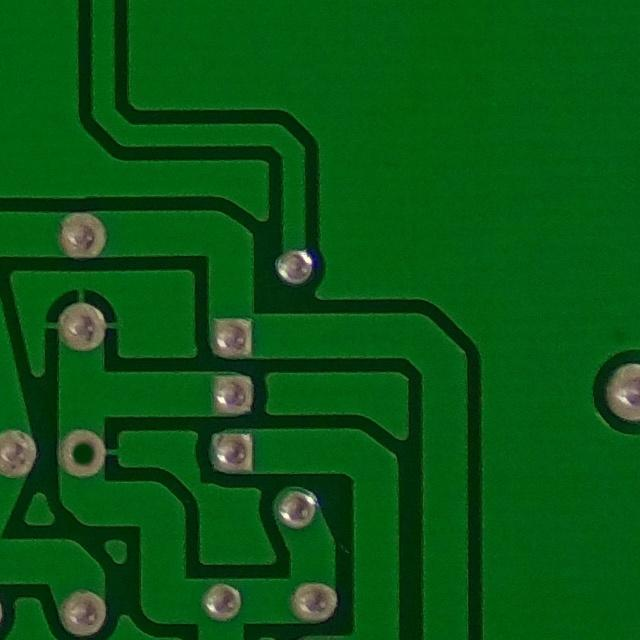missing_hole: (53, 420, 116, 481)
